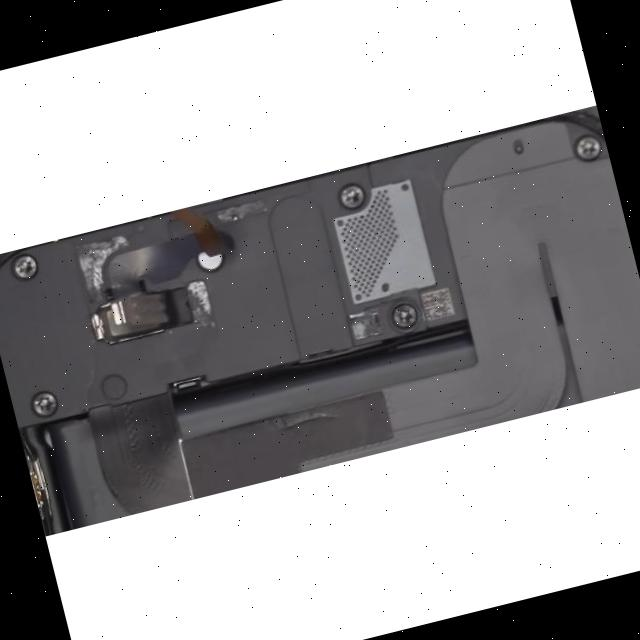Torx: (28, 387, 61, 420), (8, 250, 42, 282), (391, 302, 418, 328), (574, 134, 600, 160), (339, 184, 364, 208)
